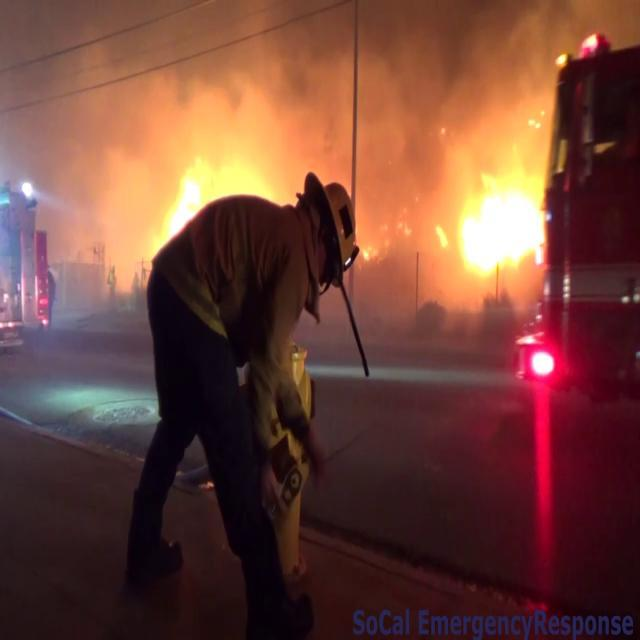Fire: (442, 148, 560, 286), (148, 133, 222, 246)
Smoke: (32, 0, 302, 279), (333, 0, 560, 309)
